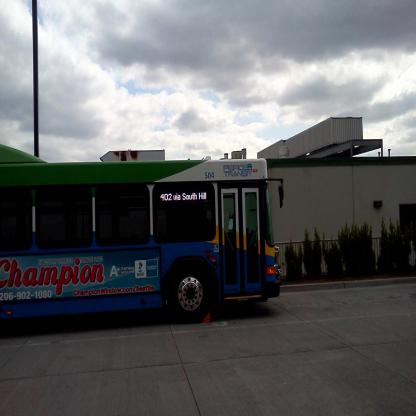Bus: (2, 144, 284, 322)
